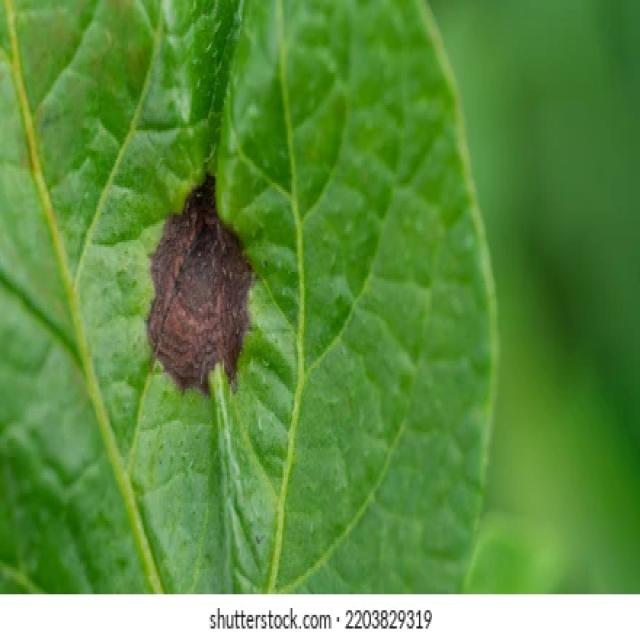earlyblight: (148, 177, 252, 392)
